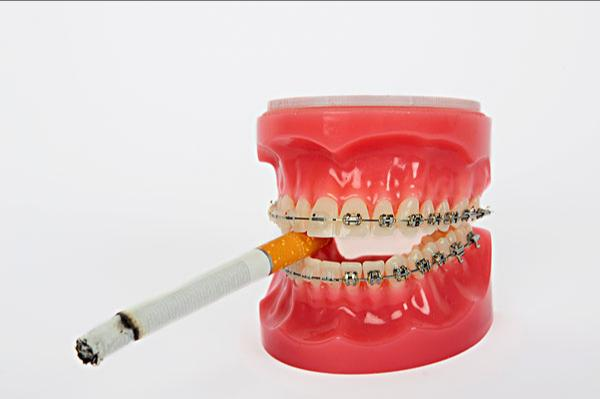Cigarette: (73, 232, 330, 364)
